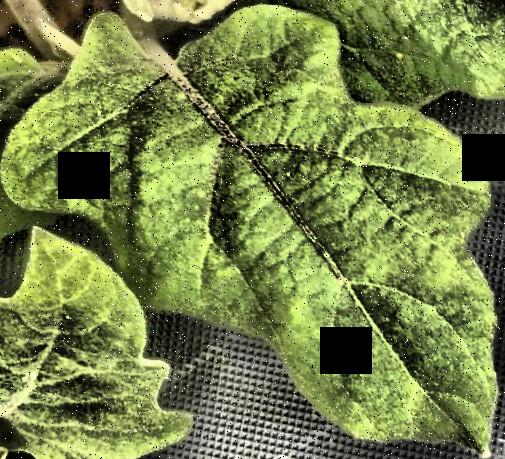HEALTHY: (0, 1, 505, 459)
